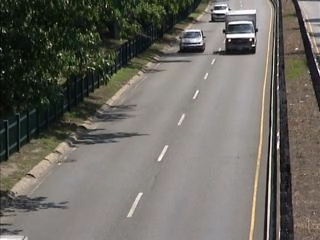car: (177, 29, 208, 53), (210, 2, 232, 22)
truck: (223, 10, 259, 56)
